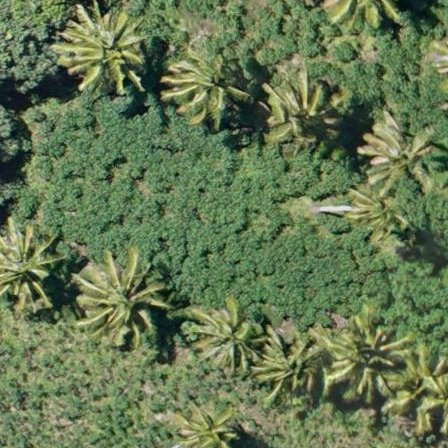palm_tree: (81, 252, 162, 336), (58, 8, 143, 85), (359, 117, 435, 192), (163, 53, 241, 123), (328, 324, 399, 399), (263, 76, 339, 145), (1, 229, 61, 308), (193, 303, 261, 369), (261, 326, 320, 395)
